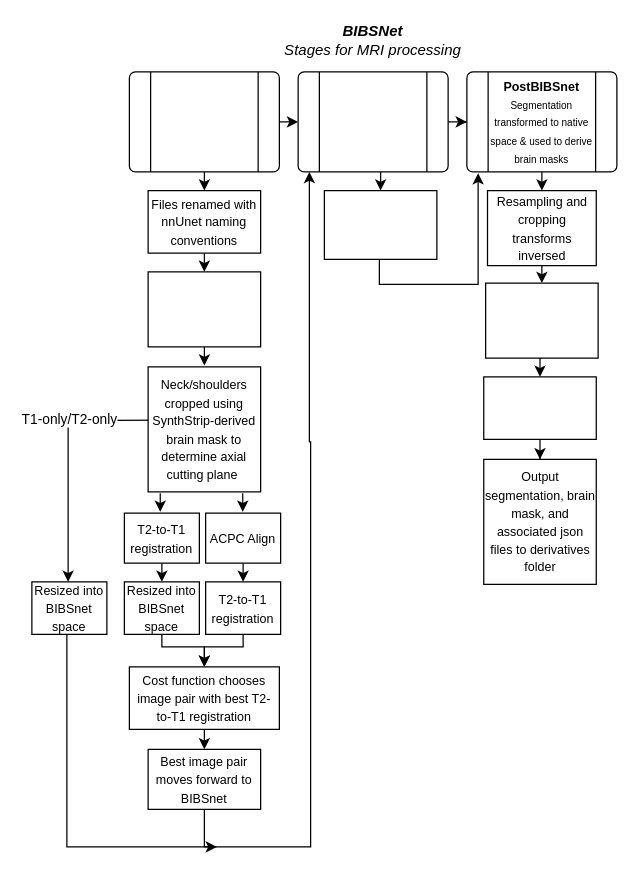
This 639x879 diagram has some shape labels left out. The shapes that lost their labels are listed below. From the top down, each one's centre as x and y in pixels, then its label:
(x=203, y=121): PreBIBSnet Prepares files for BIBSnet
(x=372, y=121): BIBSnet Produces inferred segmentation file
(x=380, y=224): Run nnUnet predict to output segmentation
(x=204, y=309): T1/T2 each averaged using the first runs as reference
(x=541, y=320): Segmentation transformed to native space
(x=539, y=407): Brain mask derived from segmentation
